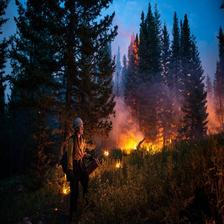fire: (86, 110, 211, 169)
